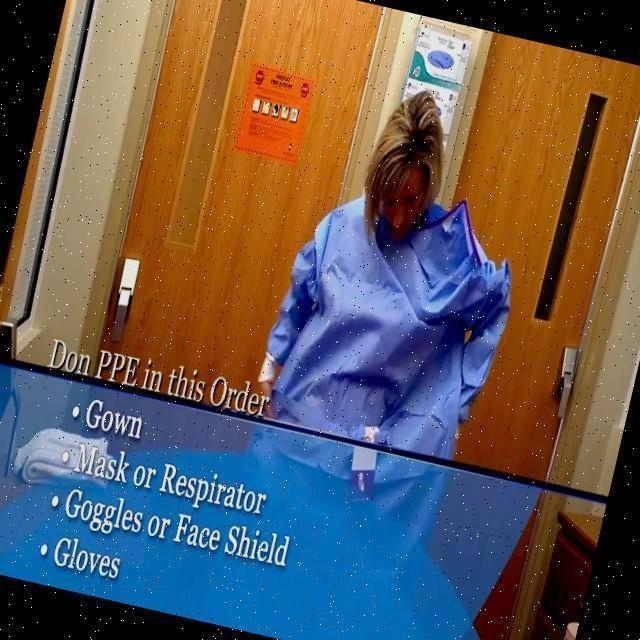no_hairnet: (378, 199, 416, 238)
